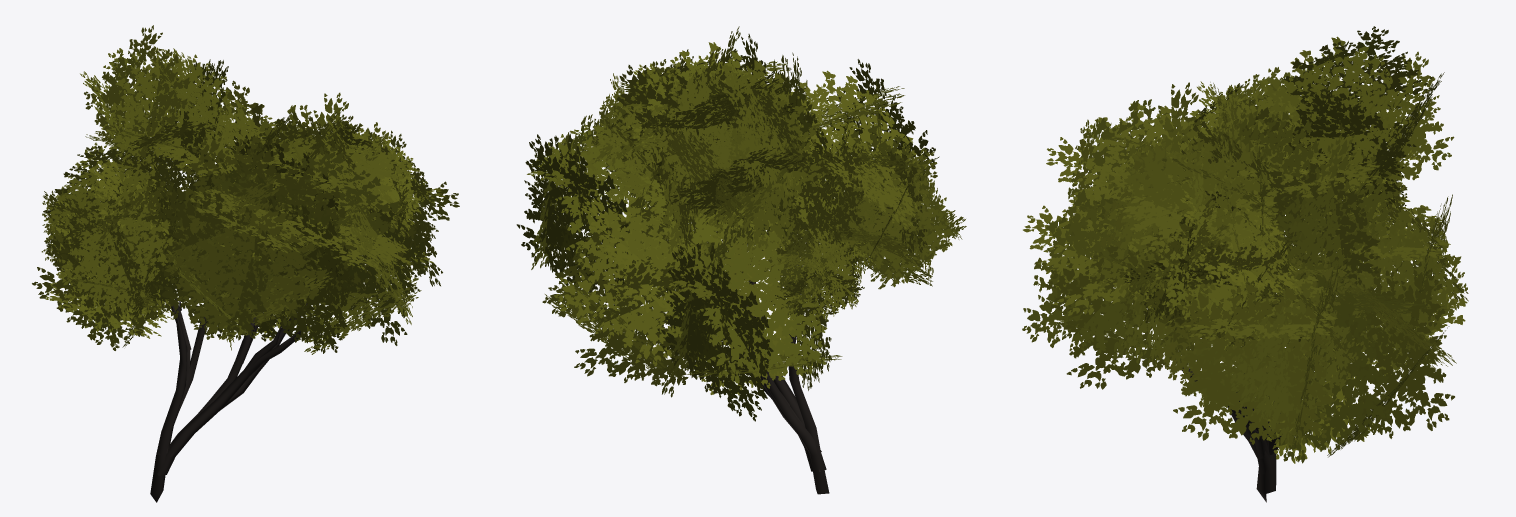
File: tree_small_c.glb
The picture shows the model from 3 angles, left to right: view 1: azimuth 30°, elevation 25°; view 2: azimuth 150°, elevation 25°; view 3: azimuth 270°, elevation 25°; orthographic projection. The views are drawn at different scales.
Parts seen in each view (by area): view 1: Object_12, Object_11; view 2: Object_12, Object_11; view 3: Object_12, Object_11.
Boxes of the visible parts, bbox=[...] form: Object_12: bbox=[32, 25, 459, 354]; Object_11: bbox=[150, 294, 307, 502]; Object_12: bbox=[516, 26, 966, 421]; Object_11: bbox=[734, 264, 829, 494]; Object_12: bbox=[1022, 26, 1468, 463]; Object_11: bbox=[1175, 359, 1281, 502].
Bounding box in the file's own units: 6.74 × 6.71 × 5.85.
Materials: 2 (1 with a texture image).
